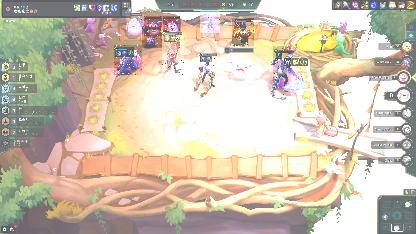1_bard: (232, 18, 254, 46)
1_nomsy: (144, 16, 162, 36), (163, 16, 181, 32)
1_yasuo: (200, 11, 220, 33)
2_heimerdinger: (142, 26, 162, 48)
2_nomsy: (114, 45, 142, 75), (126, 14, 144, 38)
2_syfen: (273, 46, 291, 96)
2_sylas: (196, 52, 220, 94)
3_zippy: (162, 32, 184, 76)
